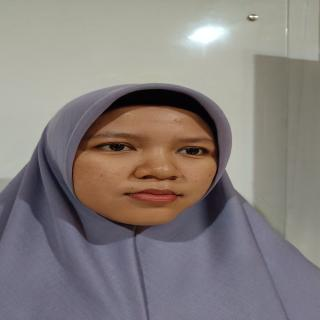Netral: (68, 100, 229, 234)
